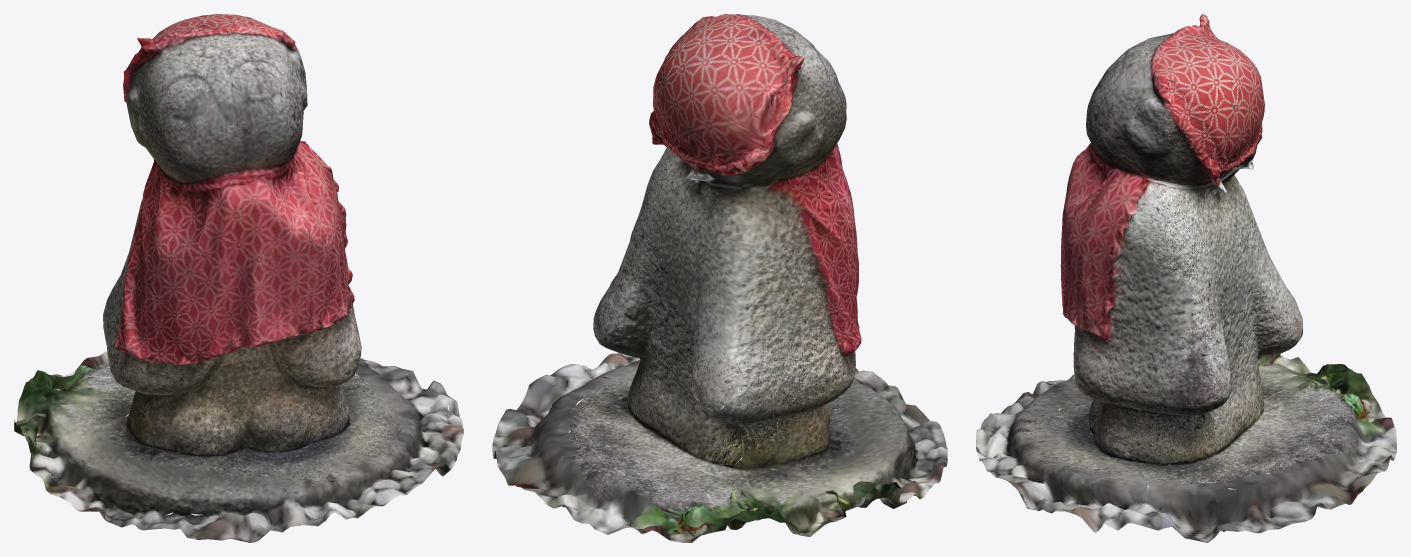
The model's file is jizo.glb.
3 views of the same model, side by side, from view 1: azimuth 30°, elevation 25°; view 2: azimuth 150°, elevation 25°; view 3: azimuth 270°, elevation 25° (orthographic). The views are drawn at different scales.
Parts seen in each view (by area): view 1: Object_2, Object_3; view 2: Object_2, Object_3; view 3: Object_2, Object_3.
Part boxes in pixels (x1,y1,x2,y2): Object_2: (14,17,463,542); Object_3: (14,14,460,530); Object_2: (492,19,946,542); Object_3: (501,14,947,525); Object_2: (976,14,1396,533); Object_3: (1032,14,1323,542).
Bounding box in the file's own units: 0.4802 × 0.5097 × 0.4762.
Materials: 1 (1 with a texture image).
